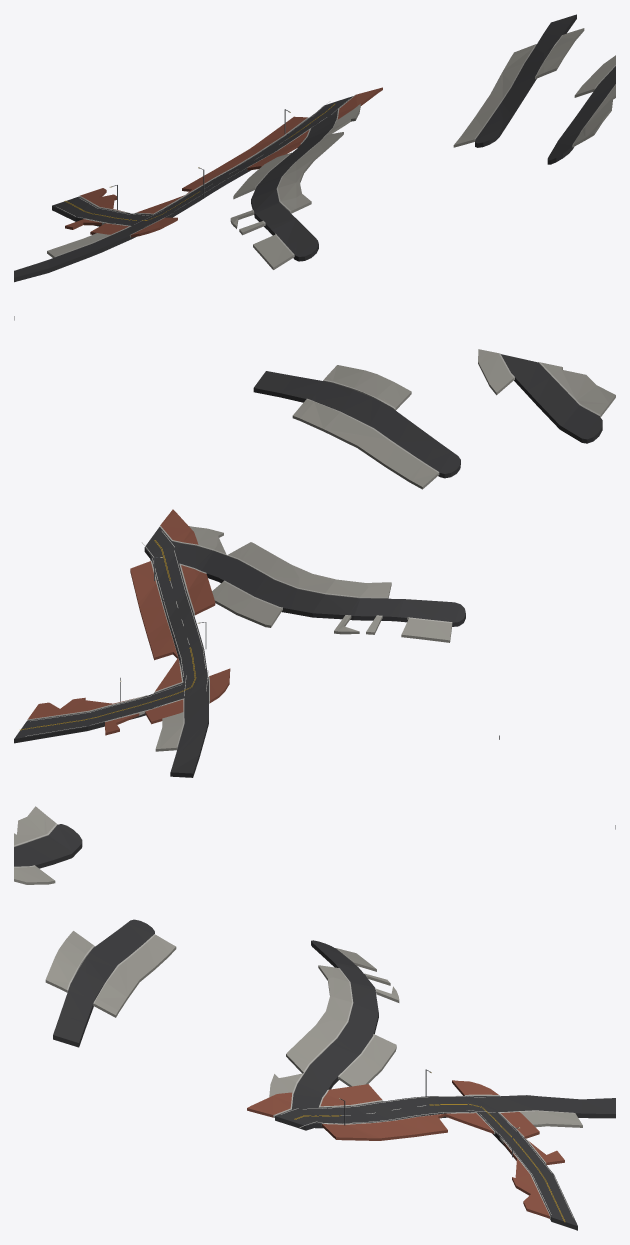
3 renders of one model, top to bottom at view 1: azimuth 90°, elevation 25°; view 2: azimuth 150°, elevation 25°; view 3: azimuth 270°, elevation 25°, orthographic. The views are drawn at different scales.
Size of the model in its own units: 149 by 68.48 by 146.
